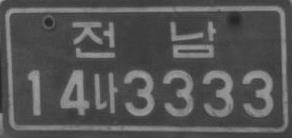1: (22, 69, 49, 117)
3: (240, 68, 274, 119), (201, 68, 234, 119), (122, 68, 156, 117), (162, 68, 194, 118)
4: (59, 69, 90, 116)
나: (92, 71, 119, 114)
전남_D: (71, 19, 217, 59)
